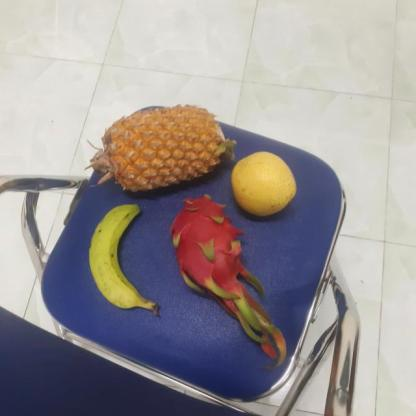banana: (87, 207, 157, 308)
pear: (229, 151, 300, 218)
pineapple: (101, 103, 229, 195)
pitaya: (170, 197, 252, 292)
